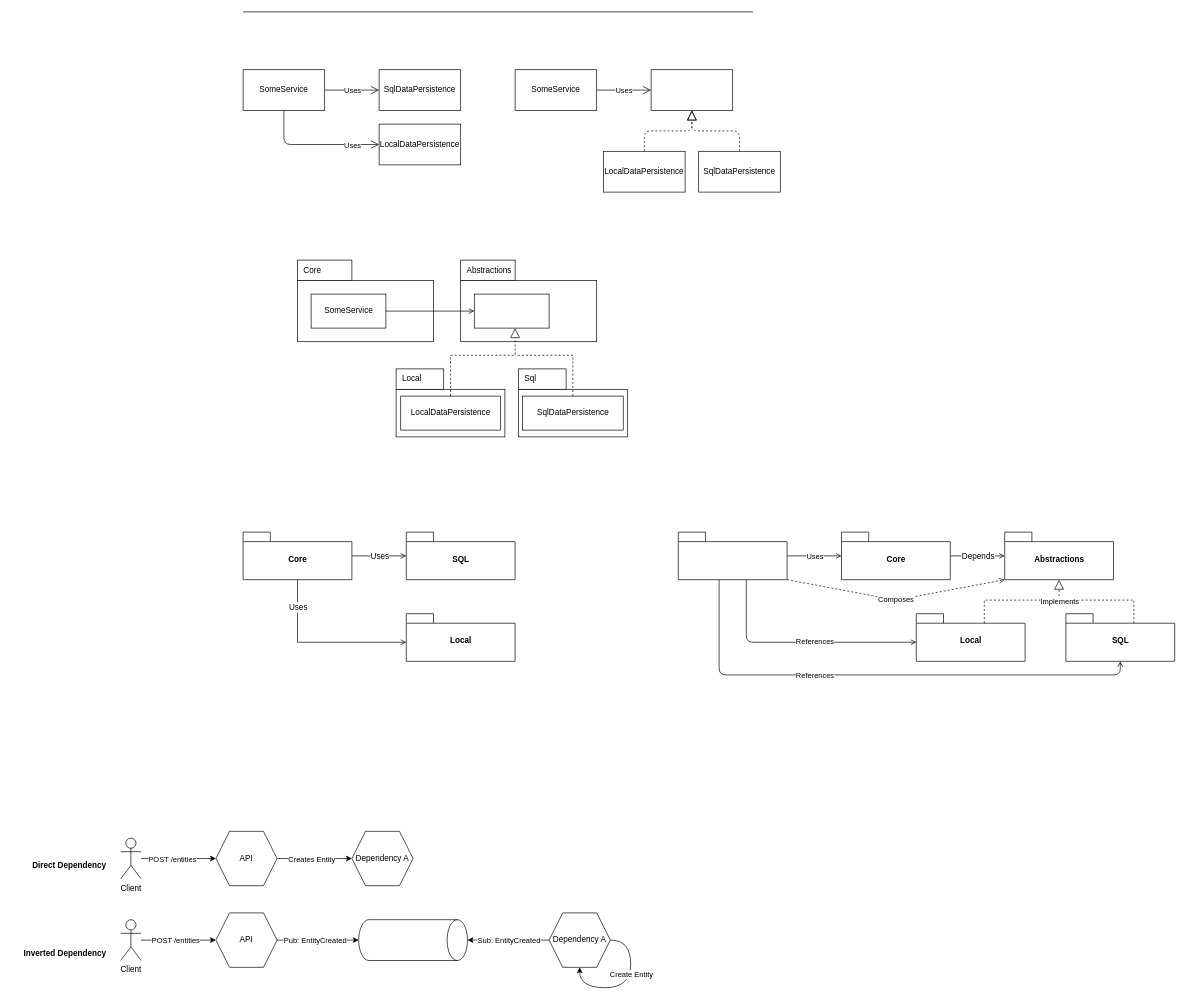
This 1187x1000 diagram has some shape labels left out. Here are the shapes that lost their labels. From the top down, the centre of each, then its label:
(x=691, y=90): «interface» IDataPersistence
(x=511, y=310): IDataPersistence
(x=732, y=555): App
(x=413, y=940): Event Broker
